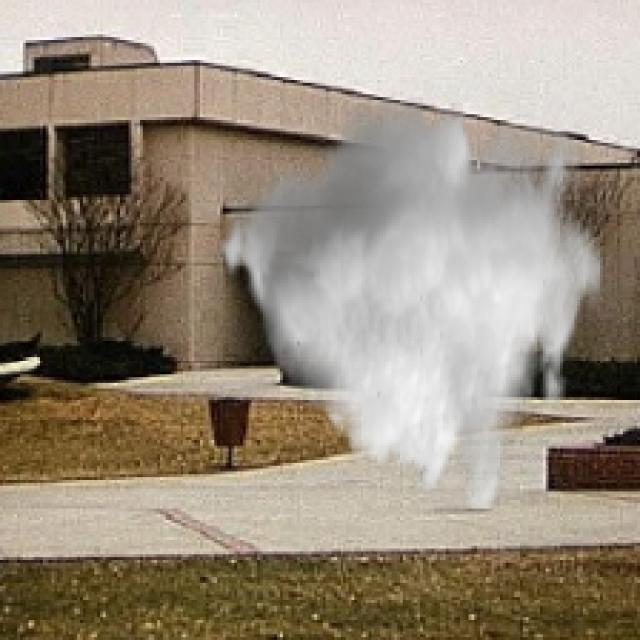Smoke: (211, 94, 603, 512)
